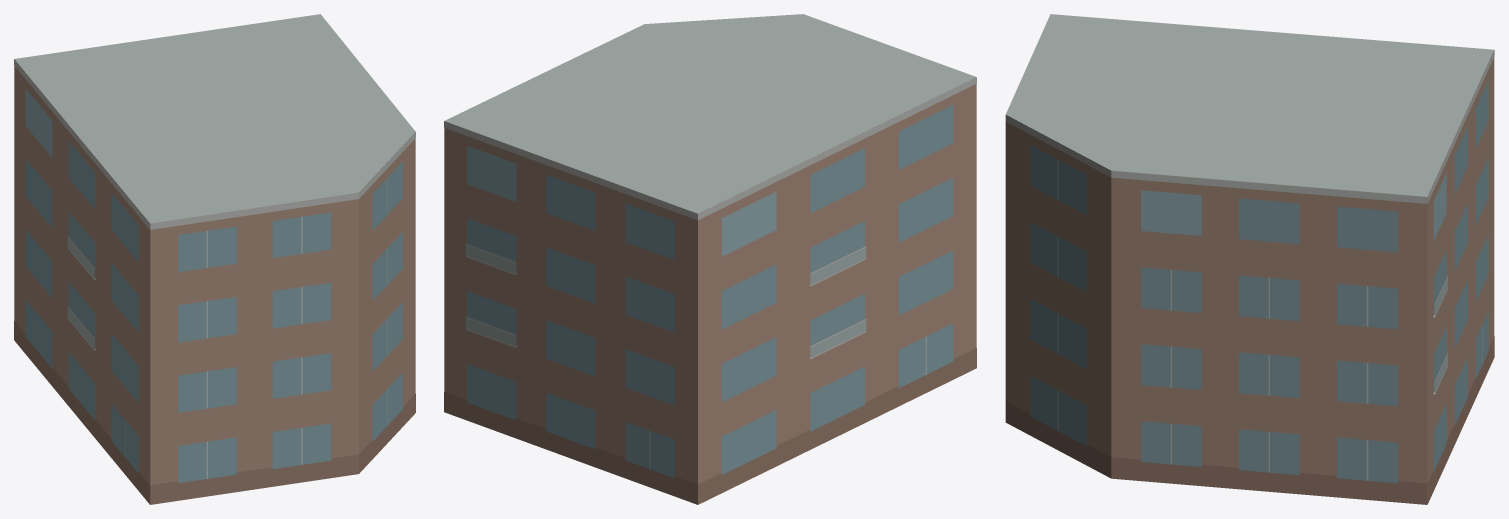
File: survey-upis-32682925.glb
3 views of the same model, side by side, from view 1: azimuth 30°, elevation 25°; view 2: azimuth 150°, elevation 25°; view 3: azimuth 270°, elevation 25° (orthographic). The views are drawn at different scales.
Parts seen in each view (by area): view 1: survey-upis-32682925.tmp; view 2: survey-upis-32682925.tmp; view 3: survey-upis-32682925.tmp.
Part boxes in pixels (x1,y1,x2,y2): survey-upis-32682925.tmp: (14,14,415,504); survey-upis-32682925.tmp: (444,14,976,504); survey-upis-32682925.tmp: (1005,14,1494,504).
Size of the model in its own units: 13.71 by 10.75 by 15.47.
